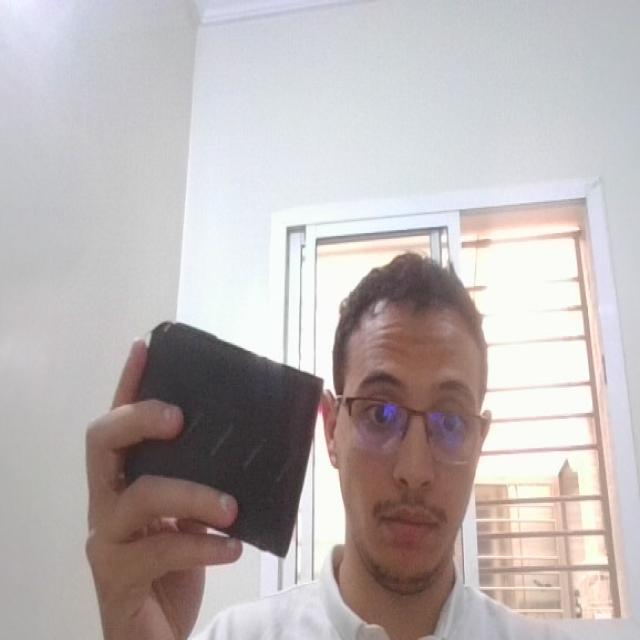wallet: (112, 307, 327, 567)
